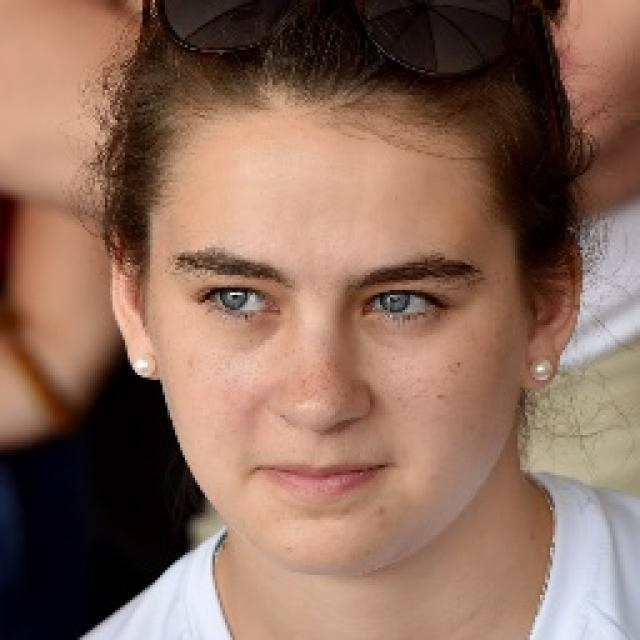earlobe: (518, 224, 584, 387), (102, 211, 160, 377)
